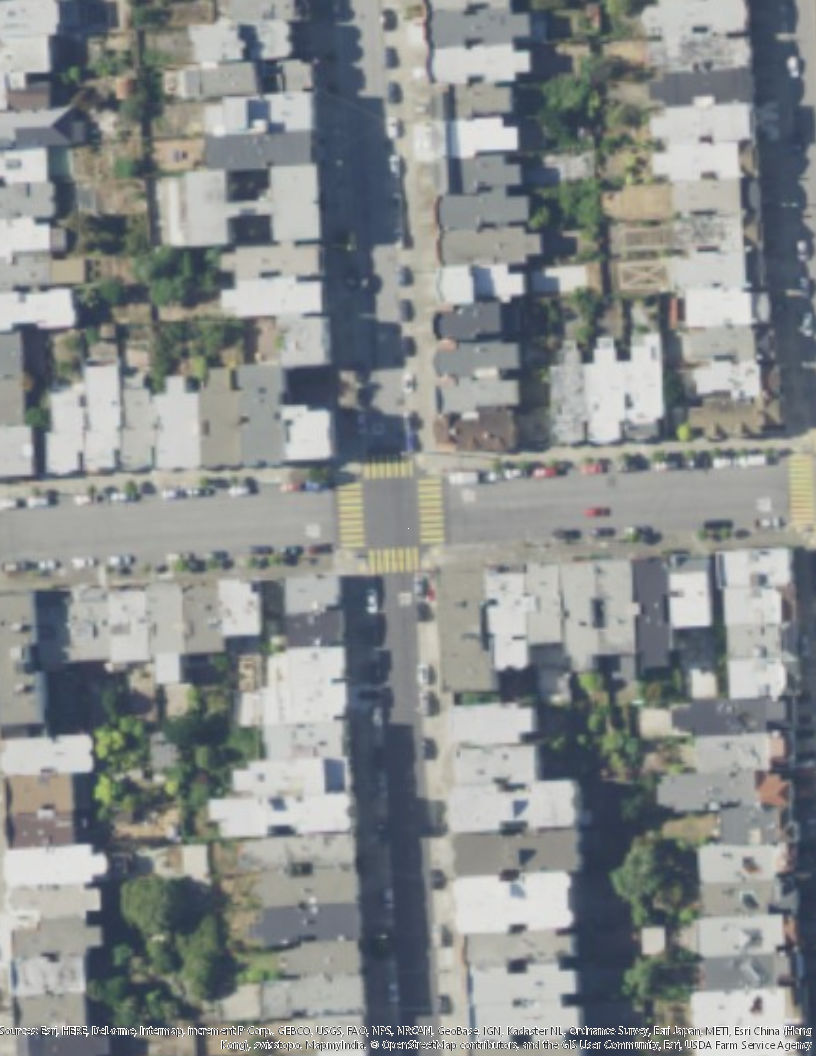zebracross: (416, 467, 449, 547), (786, 448, 814, 531), (335, 477, 365, 549), (363, 450, 418, 479), (369, 549, 421, 576)
